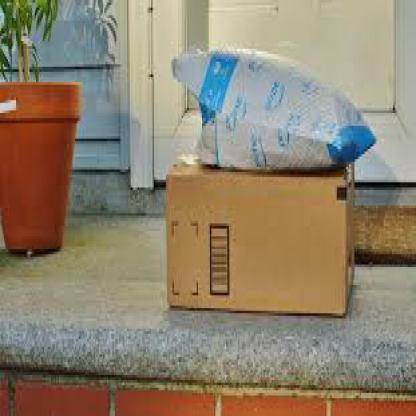package: (164, 149, 356, 320)
